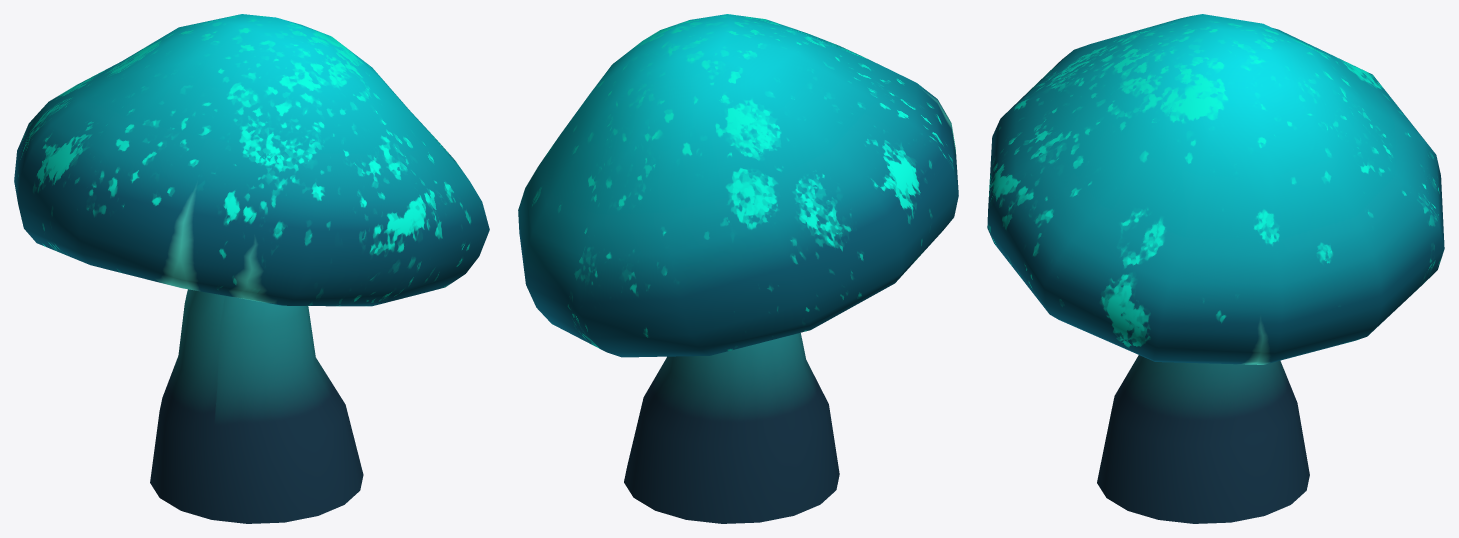
The model's file is Mushroom_03.fbx.
3 views of the same model, side by side, from view 1: azimuth 30°, elevation 25°; view 2: azimuth 150°, elevation 25°; view 3: azimuth 270°, elevation 25° (orthographic).
Parts seen in each view (by area): view 1: Cylinder006; view 2: Cylinder006; view 3: Cylinder006.
Part boxes in pixels (<box>): Cylinder006: <box>14,14,489,523</box>; Cylinder006: <box>518,14,958,523</box>; Cylinder006: <box>987,14,1444,523</box>.
Bounding box in the file's own units: 4.48 × 4.47 × 4.82.
